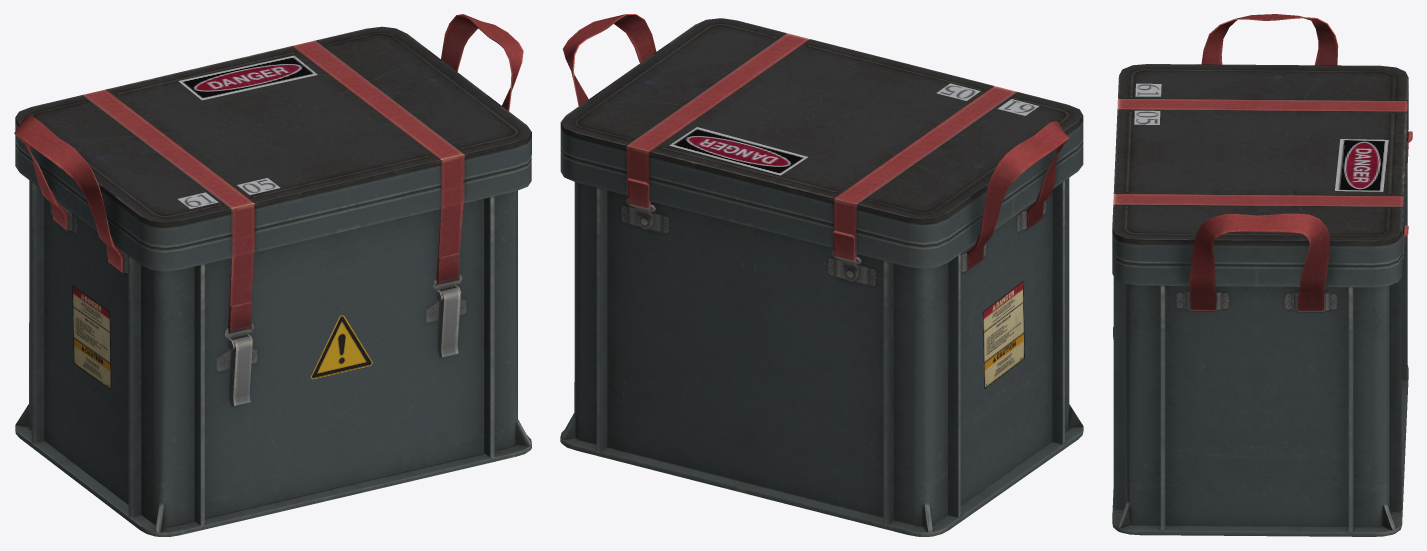
Rendered from v2_laboratory_biohazard_box.glb.
The picture shows the model from 3 angles, left to right: view 1: azimuth 30°, elevation 25°; view 2: azimuth 150°, elevation 25°; view 3: azimuth 270°, elevation 25°; orthographic projection. The views are drawn at different scales.
Visible parts, largest first — view 1: lab_stuff_PlasticBox_03_LOD0, Object001_Material #156_0; view 2: lab_stuff_PlasticBox_03_LOD0, Object001_Material #156_0; view 3: lab_stuff_PlasticBox_03_LOD0, Object001_Material #156_0.
Part boxes in pixels (x1=…): lab_stuff_PlasticBox_03_LOD0: x1=14, y1=14, x2=531, y2=536; Object001_Material #156_0: x1=72, y1=55, x2=372, y2=390; lab_stuff_PlasticBox_03_LOD0: x1=560, y1=14, x2=1083, y2=536; Object001_Material #156_0: x1=669, y1=83, x2=1039, y2=389; lab_stuff_PlasticBox_03_LOD0: x1=1112, y1=14, x2=1412, y2=536; Object001_Material #156_0: x1=1134, y1=83, x2=1388, y2=191.
Bounding box in the file's own units: 0.5367 × 0.384 × 0.3138.
2 materials, 2 textured.
